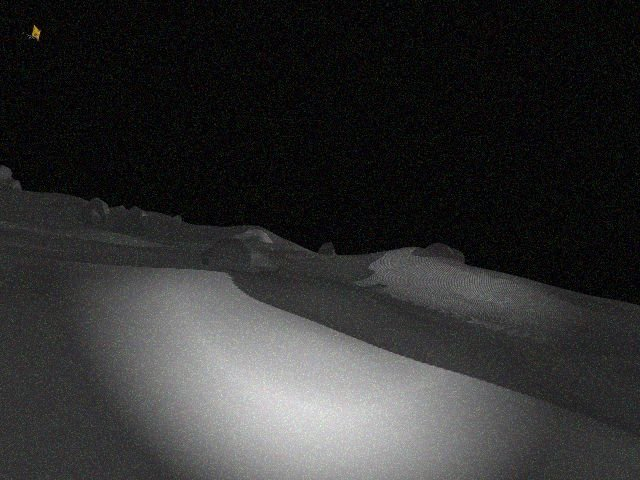cubesat: (18, 20, 43, 45)
